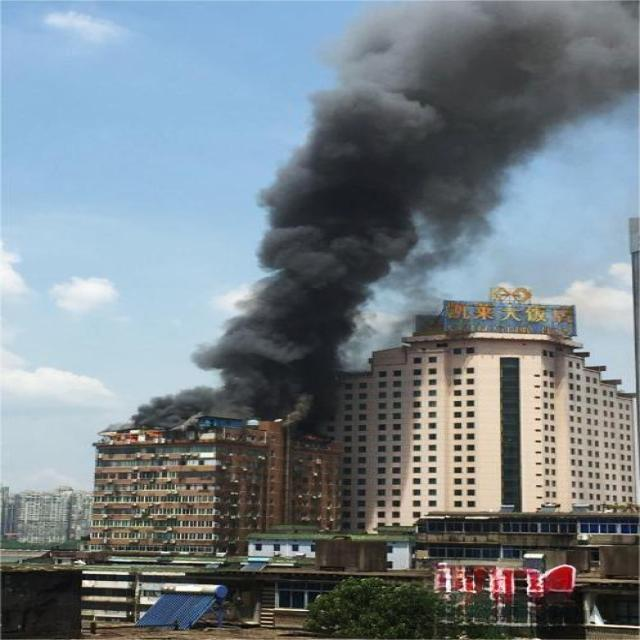Smoke: (270, 0, 640, 286), (128, 286, 356, 424)
